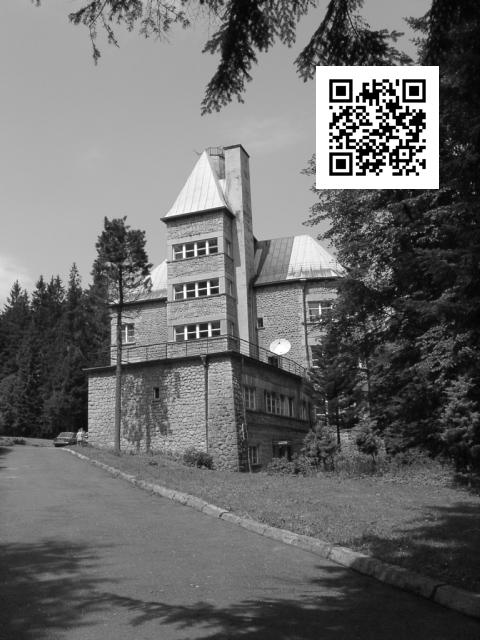qr_code: (324, 67, 432, 191)
